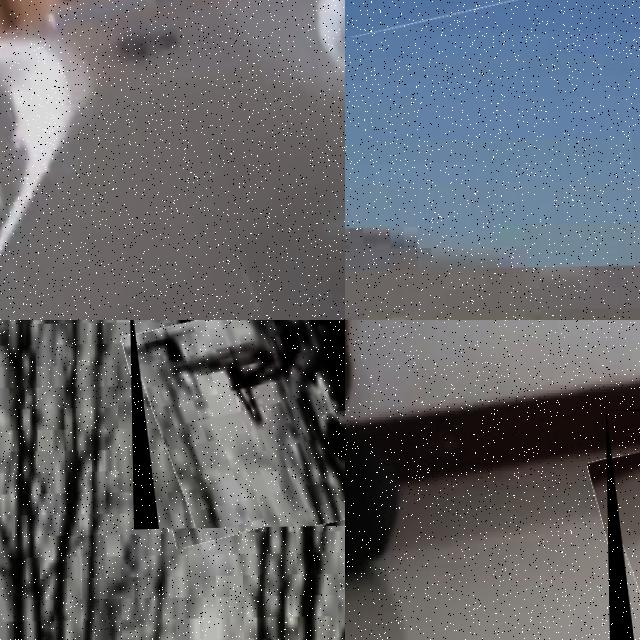drone: (0, 0, 345, 320), (129, 320, 345, 528)
